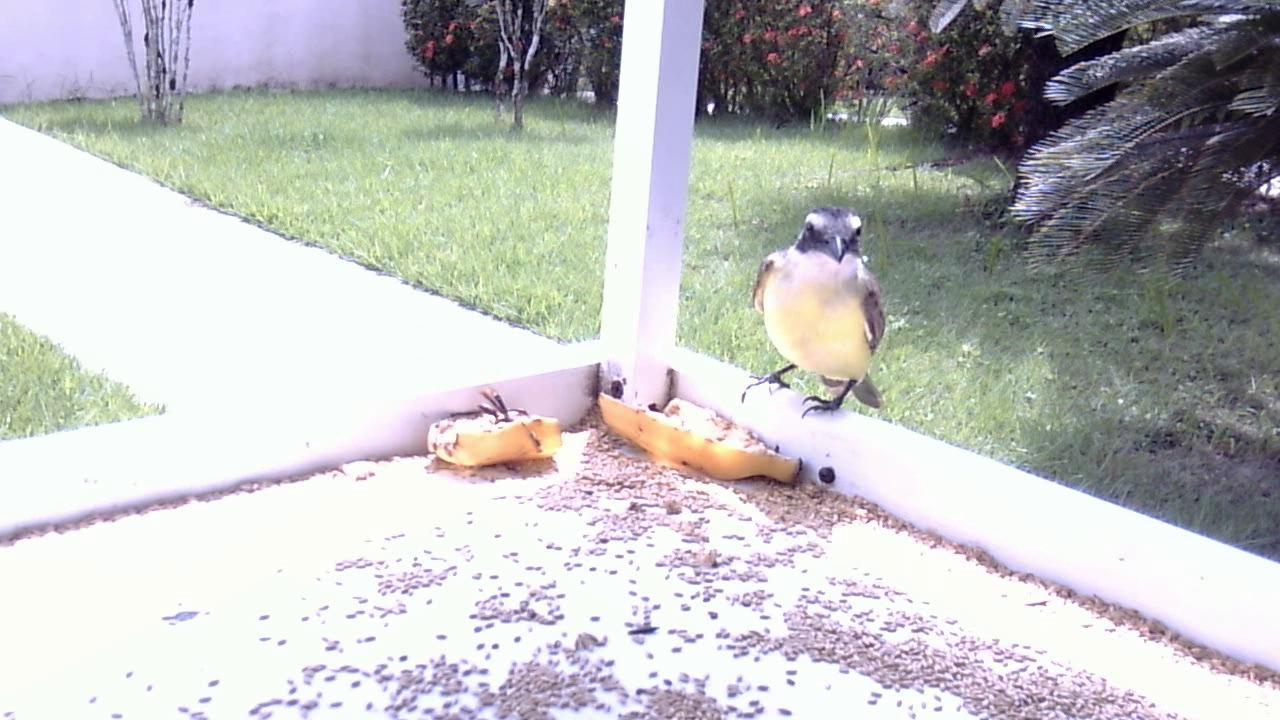bem_te_vi: (734, 202, 895, 432)
